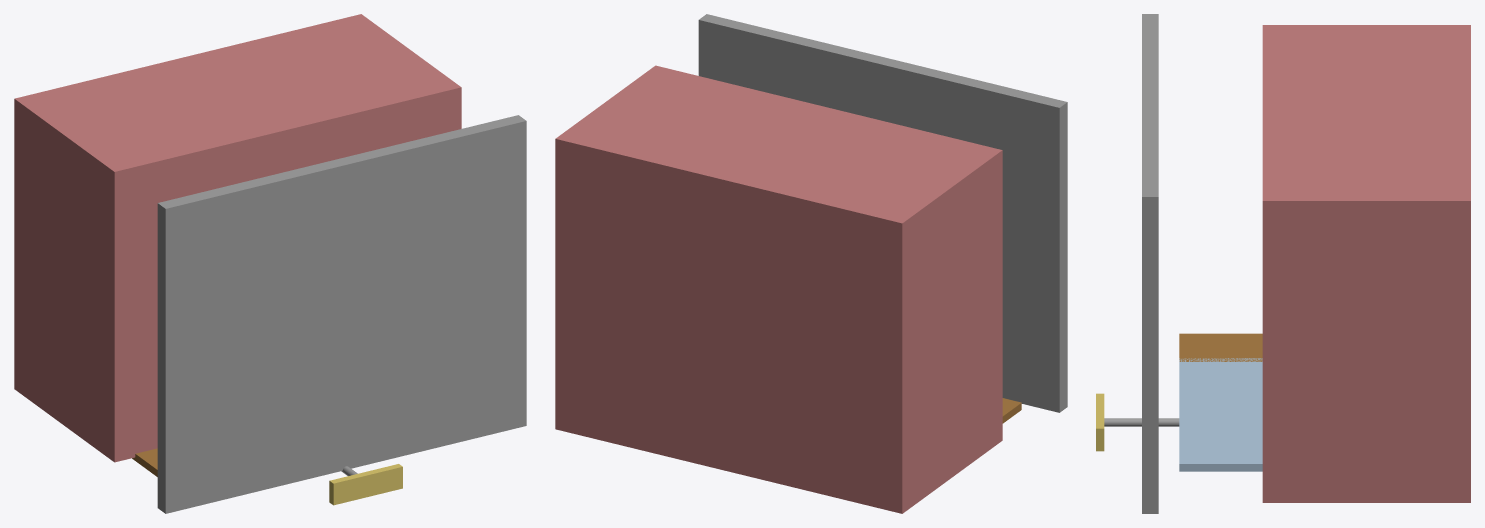
File: shop.glb
The picture shows the model from 3 angles, left to right: view 1: azimuth 30°, elevation 25°; view 2: azimuth 150°, elevation 25°; view 3: azimuth 270°, elevation 25°; orthographic projection. The views are drawn at different scales.
Parts seen in each view (by area): view 1: geometry_1, geometry_0, geometry_5; view 2: geometry_0, geometry_1; view 3: geometry_0, geometry_2, geometry_1, geometry_3, geometry_4, geometry_5.
Boxes of the visible parts, box(x1,y1,x2,y2) form: geometry_1: box(157, 115, 526, 513); geometry_0: box(14, 14, 461, 462); geometry_5: box(329, 464, 402, 505); geometry_0: box(555, 65, 1002, 513); geometry_1: box(698, 14, 1067, 412); geometry_0: box(1262, 25, 1470, 502); geometry_2: box(1179, 358, 1262, 471); geometry_1: box(1142, 14, 1158, 513); geometry_3: box(1179, 333, 1262, 361); geometry_4: box(1104, 418, 1179, 426); geometry_5: box(1096, 393, 1104, 451).
Bounding box in the file's own units: 5.2 × 4.35 × 4.5.
